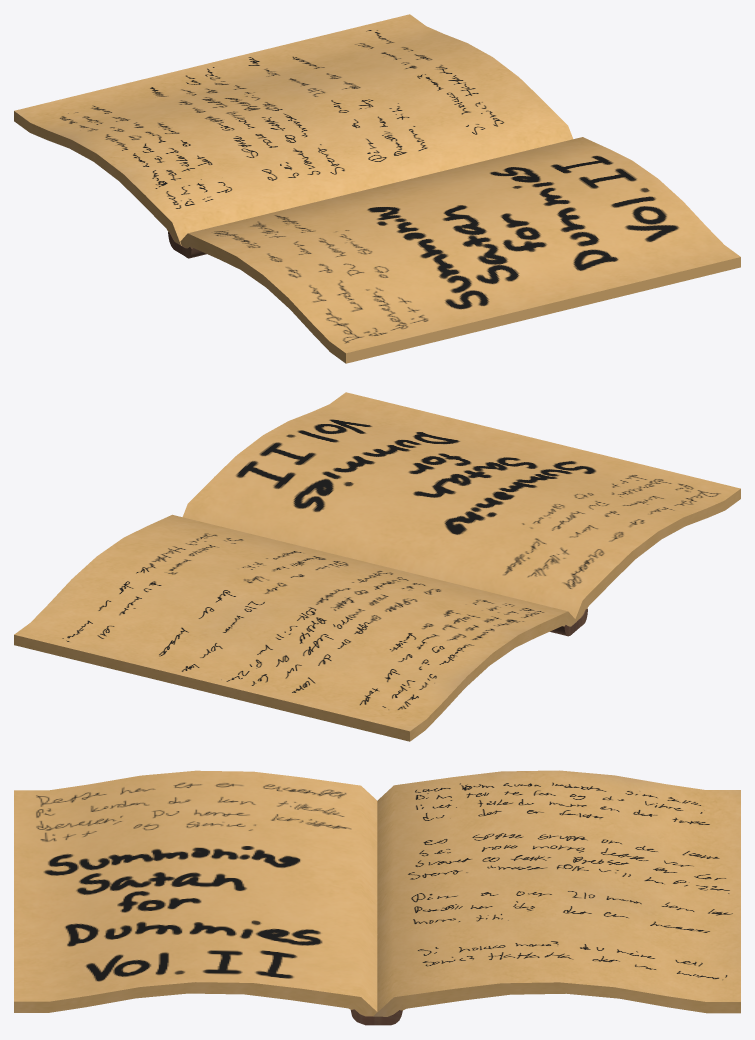
The model's file is Dummiesbok.fbx.
The picture shows the model from 3 angles, top to bottom: view 1: azimuth 30°, elevation 25°; view 2: azimuth 150°, elevation 25°; view 3: azimuth 270°, elevation 25°; orthographic projection. The views are drawn at different scales.
Parts seen in each view (by area): view 1: pCube10, pCube9; view 2: pCube9, pCube10; view 3: pCube9, pCube10, pCube8.
Boxes of the visible parts, box(x1,y1,x2,y2) form: pCube10: box(180, 137, 740, 363); pCube9: box(14, 14, 572, 245); pCube9: box(14, 514, 576, 741); pCube10: box(182, 392, 740, 620); pCube9: box(373, 770, 740, 1016); pCube10: box(14, 770, 377, 1016); pCube8: box(350, 1009, 402, 1025).
Bounding box in the file's own units: 19.92 × 1.89 × 28.86.
